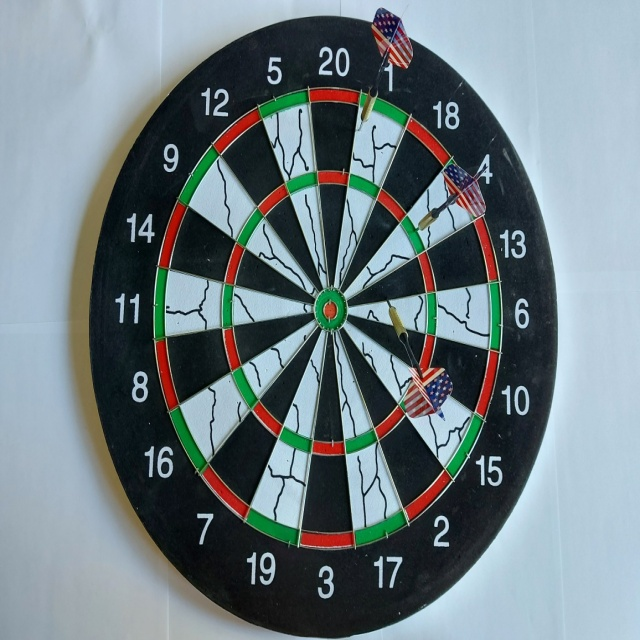Dart: (379, 286, 458, 427), (356, 1, 415, 138), (409, 155, 492, 244)
